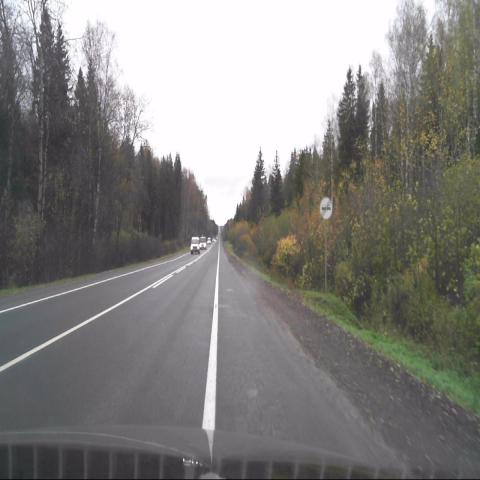3_21: (320, 196, 332, 219)
